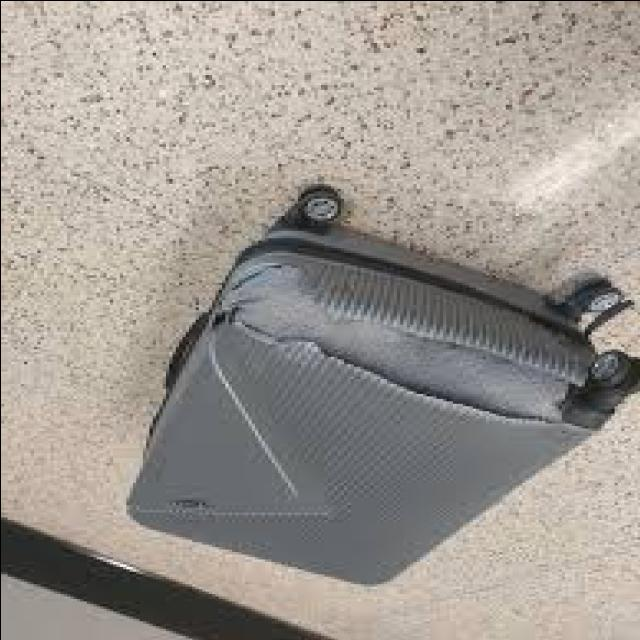Damage-bag: (214, 256, 569, 421)
